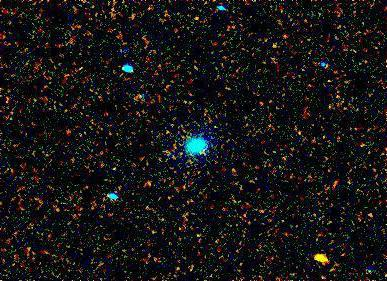star: (305, 247, 335, 277)
